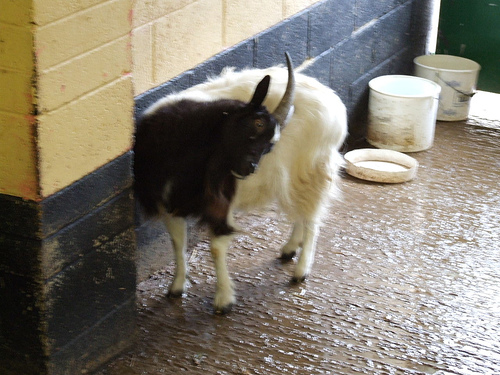goat: (135, 51, 350, 315)
